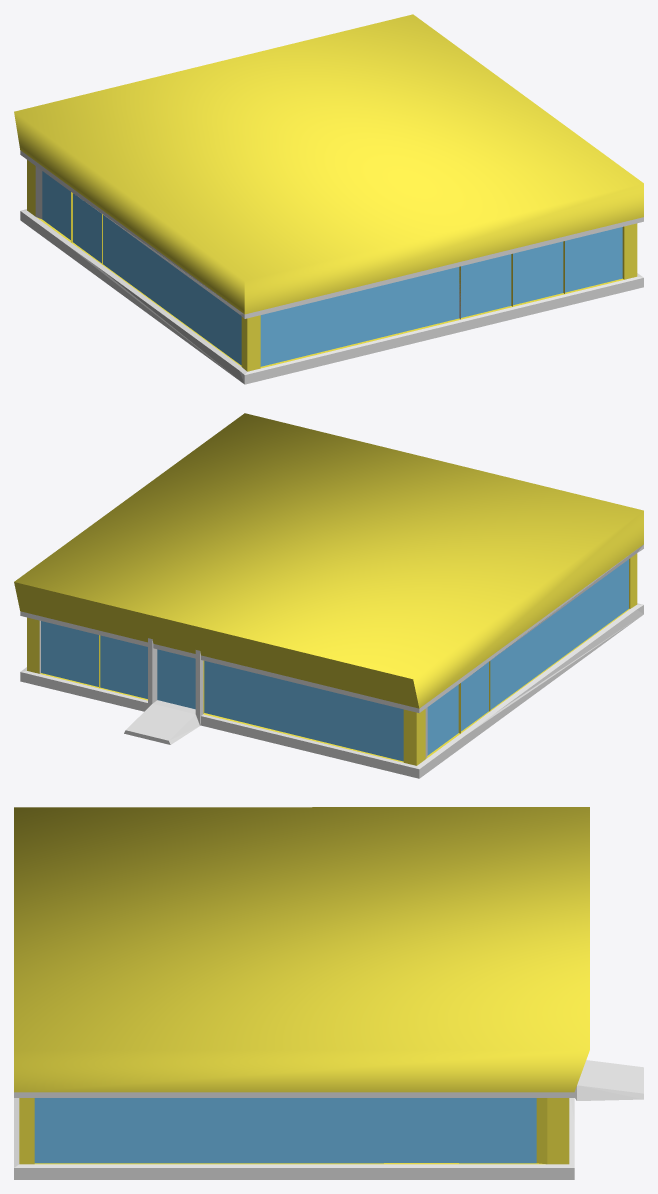
The model's file is Shop8x8x2Yellow.fbx.
The picture shows the model from 3 angles, top to bottom: view 1: azimuth 30°, elevation 25°; view 2: azimuth 150°, elevation 25°; view 3: azimuth 270°, elevation 25°; orthographic projection. The views are drawn at different scales.
Parts seen in each view (by area): view 1: Shop.001; view 2: Shop.001; view 3: Shop.001.
Boxes of the visible parts, left/top/right/bottom form: Shop.001: left=14, top=14, right=643, bottom=384; Shop.001: left=14, top=413, right=643, bottom=778; Shop.001: left=14, top=807, right=643, bottom=1179.
Size of the model in its own units: 7.96 by 1.98 by 8.72.
1 material, 1 textured.
